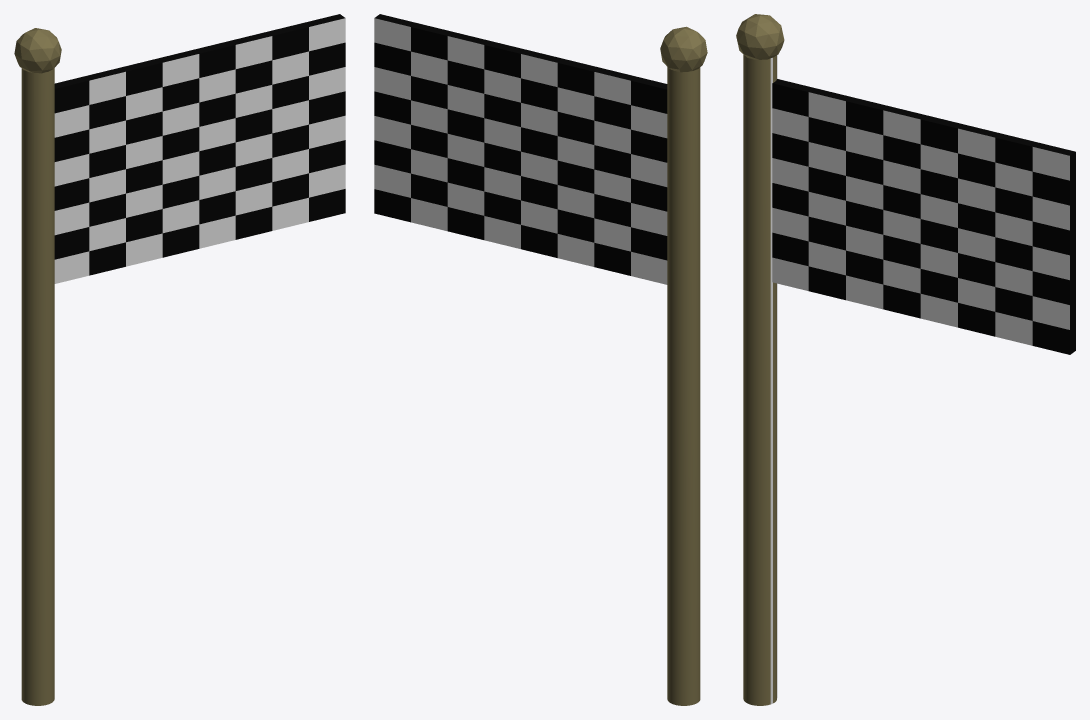
The model's file is FinishPath.glb.
3 views of the same model, side by side, from view 1: azimuth 30°, elevation 25°; view 2: azimuth 150°, elevation 25°; view 3: azimuth 330°, elevation 25° (orthographic). The views are drawn at different scales.
Visible parts, largest first — view 1: Cylinder.002; view 2: Cylinder.002; view 3: Cylinder.002.
Boxes of the visible parts, x1,y1,x2,y2 form: Cylinder.002: [14, 14, 345, 705]; Cylinder.002: [374, 14, 707, 705]; Cylinder.002: [736, 14, 1075, 705].
Bounding box in the file's own units: 2.22 × 4.37 × 0.2865.
